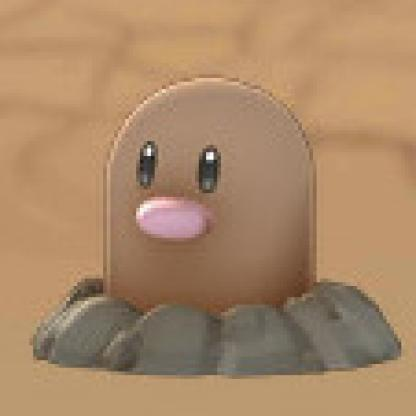Diglett: (32, 64, 406, 377)
